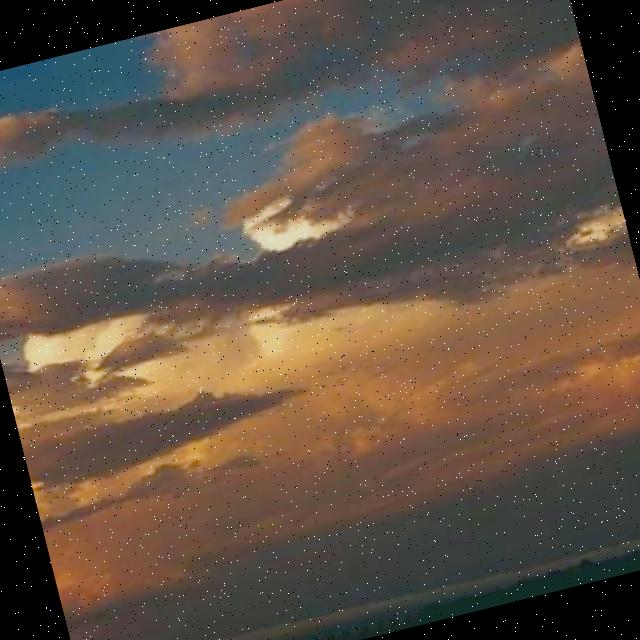Cb: (1, 1, 640, 562)
